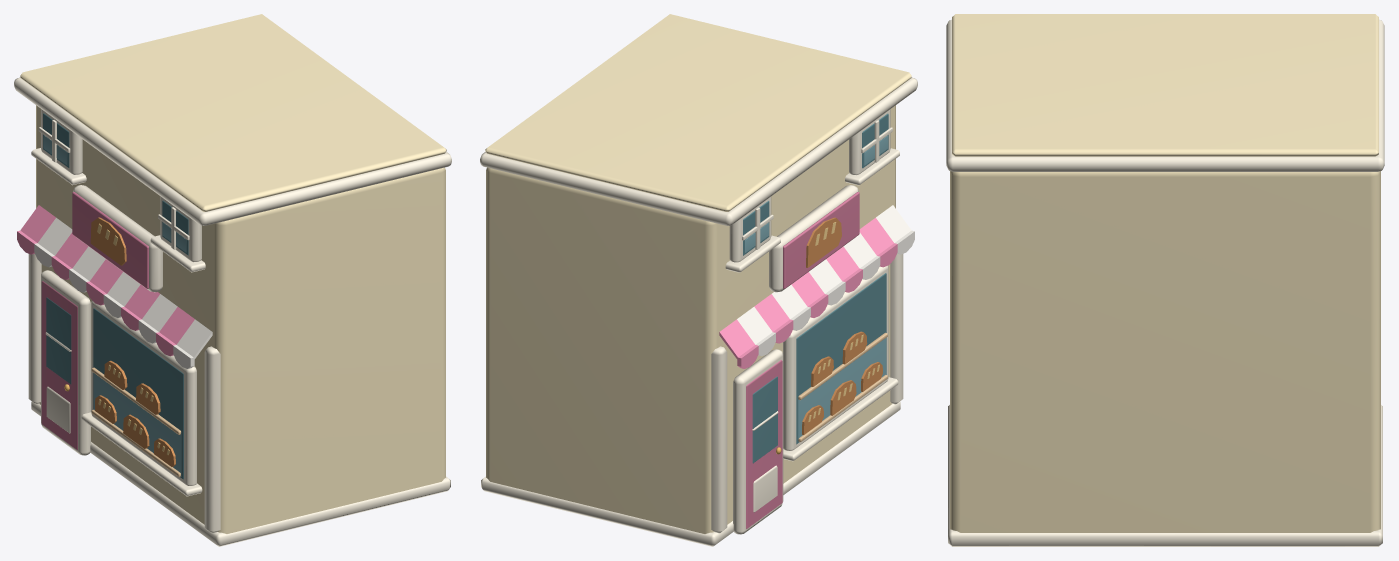
File: town_bakery.glb
The picture shows the model from 3 angles, left to right: view 1: azimuth 30°, elevation 25°; view 2: azimuth 150°, elevation 25°; view 3: azimuth 270°, elevation 25°; orthographic projection. The views are drawn at different scales.
Parts seen in each view (by area): view 1: Shell, Roof, Facade, Awning, Sign, DisplayBread; view 2: Shell, Roof, Facade, Awning, Sign, DisplayBread; view 3: Shell, Roof.
Boxes of the visible parts, x1,y1,x2,y2 form: Shell: (31,105,450,546); Roof: (14,14,451,225); Facade: (28,109,220,533); Awning: (17,205,212,368); Sign: (72,185,162,292); DisplayBread: (94,360,175,466); Shell: (481,105,900,546); Roof: (480,14,917,225); Facade: (711,109,903,534); Awning: (719,205,914,368); Sign: (769,185,859,292); DisplayBread: (802,331,882,434); Shell: (948,171,1382,546); Roof: (946,14,1384,171).
Size of the model in its own units: 3.5 by 4.5 by 4.5.
11 materials, 11 textured.
